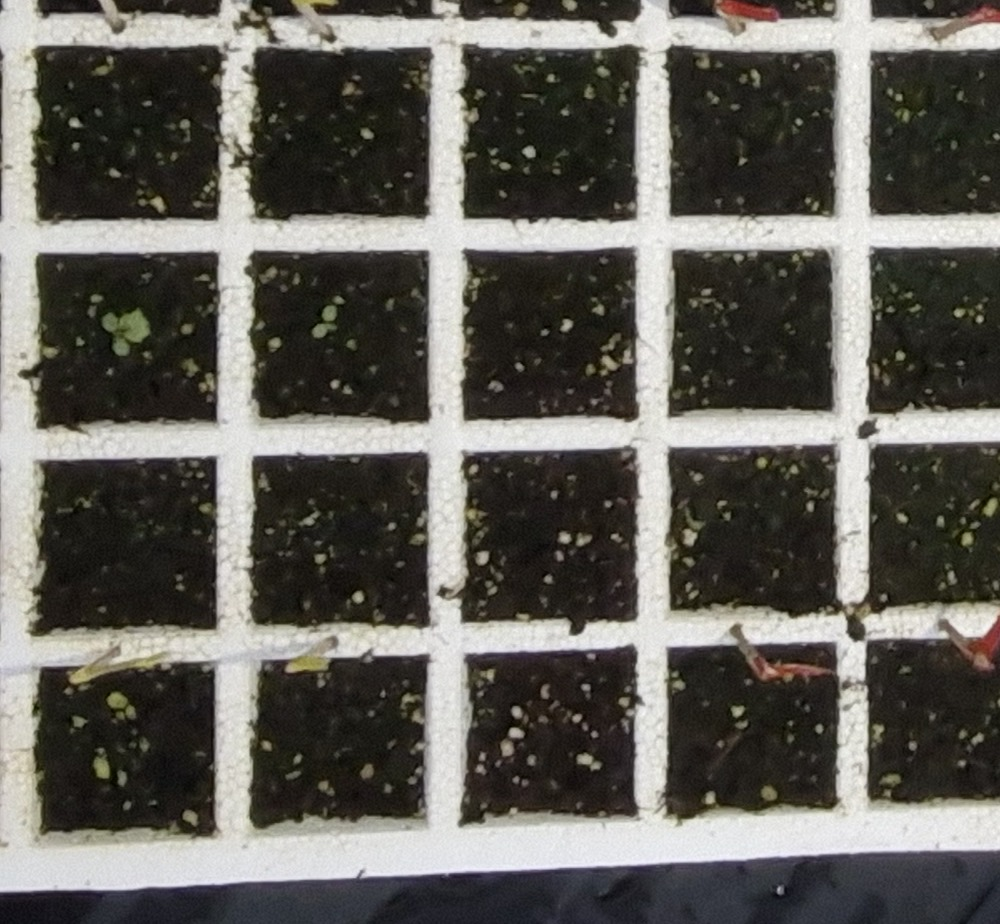Folha: (121, 306, 151, 342), (112, 337, 130, 356), (102, 313, 118, 332), (312, 323, 326, 336), (324, 306, 336, 321)
Germinacao: (104, 309, 152, 355), (313, 304, 338, 338)
